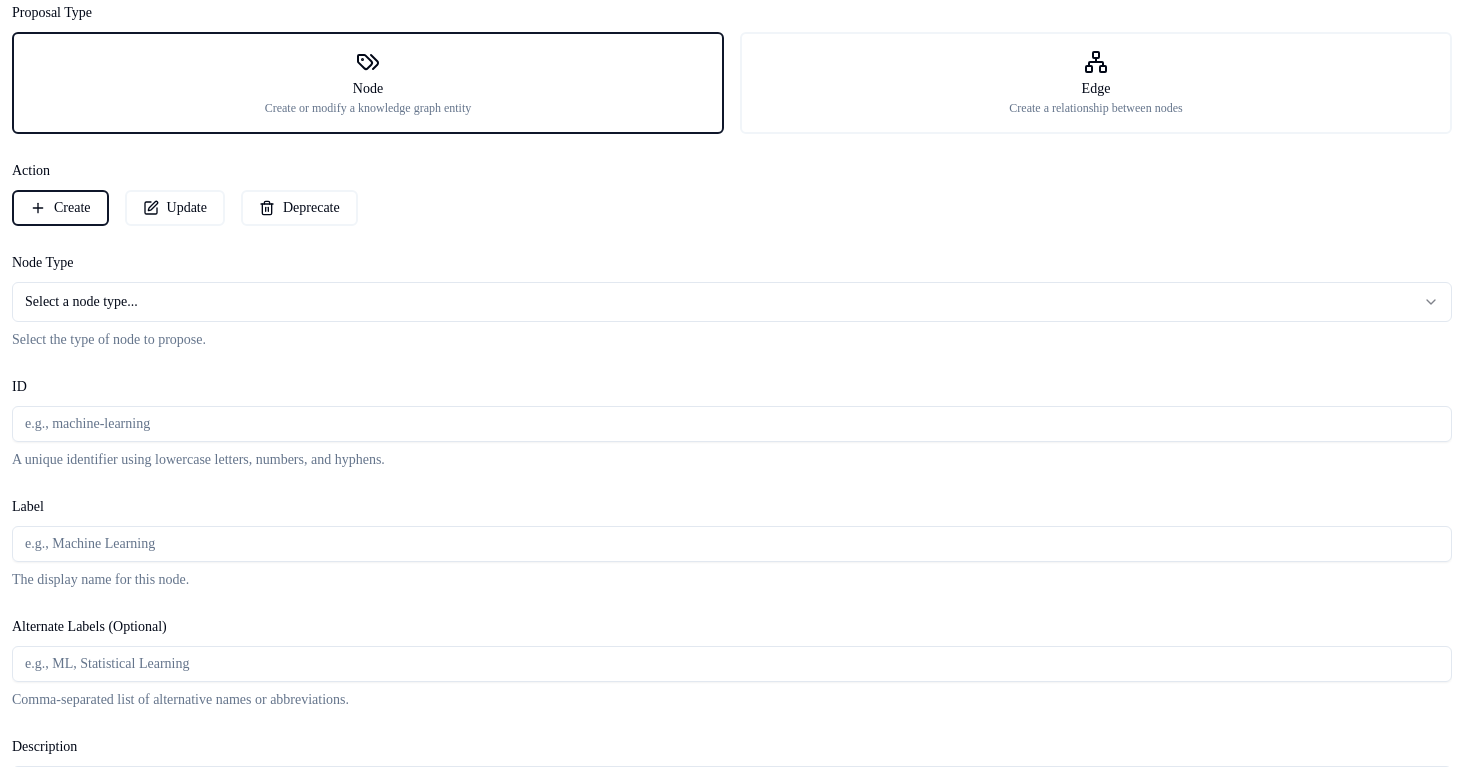
Test case: ProposalForm › Node Proposals › shows target URI field for deprecate action
Step 1. Click the text "Deprecate" → (311, 208), box [283, 201, 340, 215]
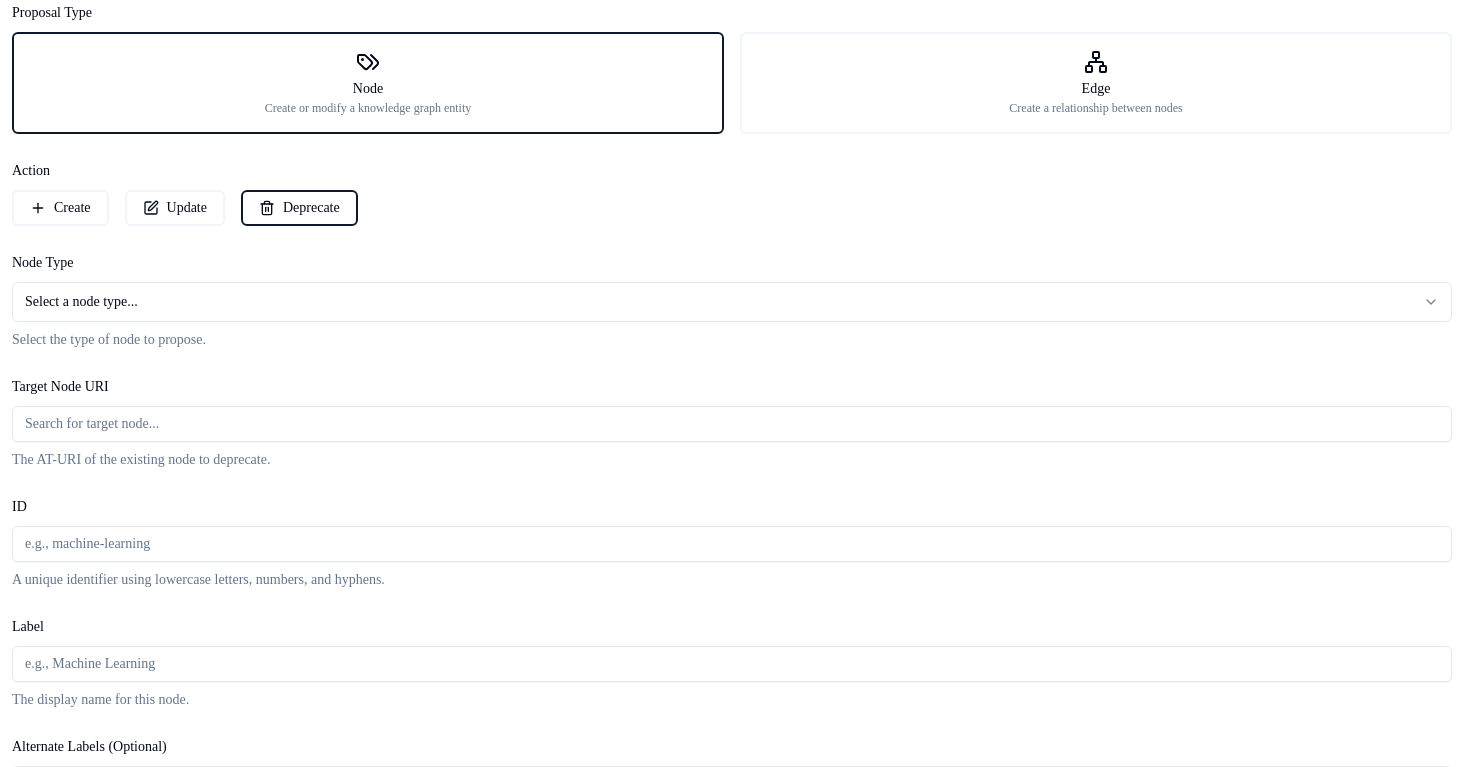
Now the field labelled "Target Node URI" is shown, box [12, 406, 1452, 442]
